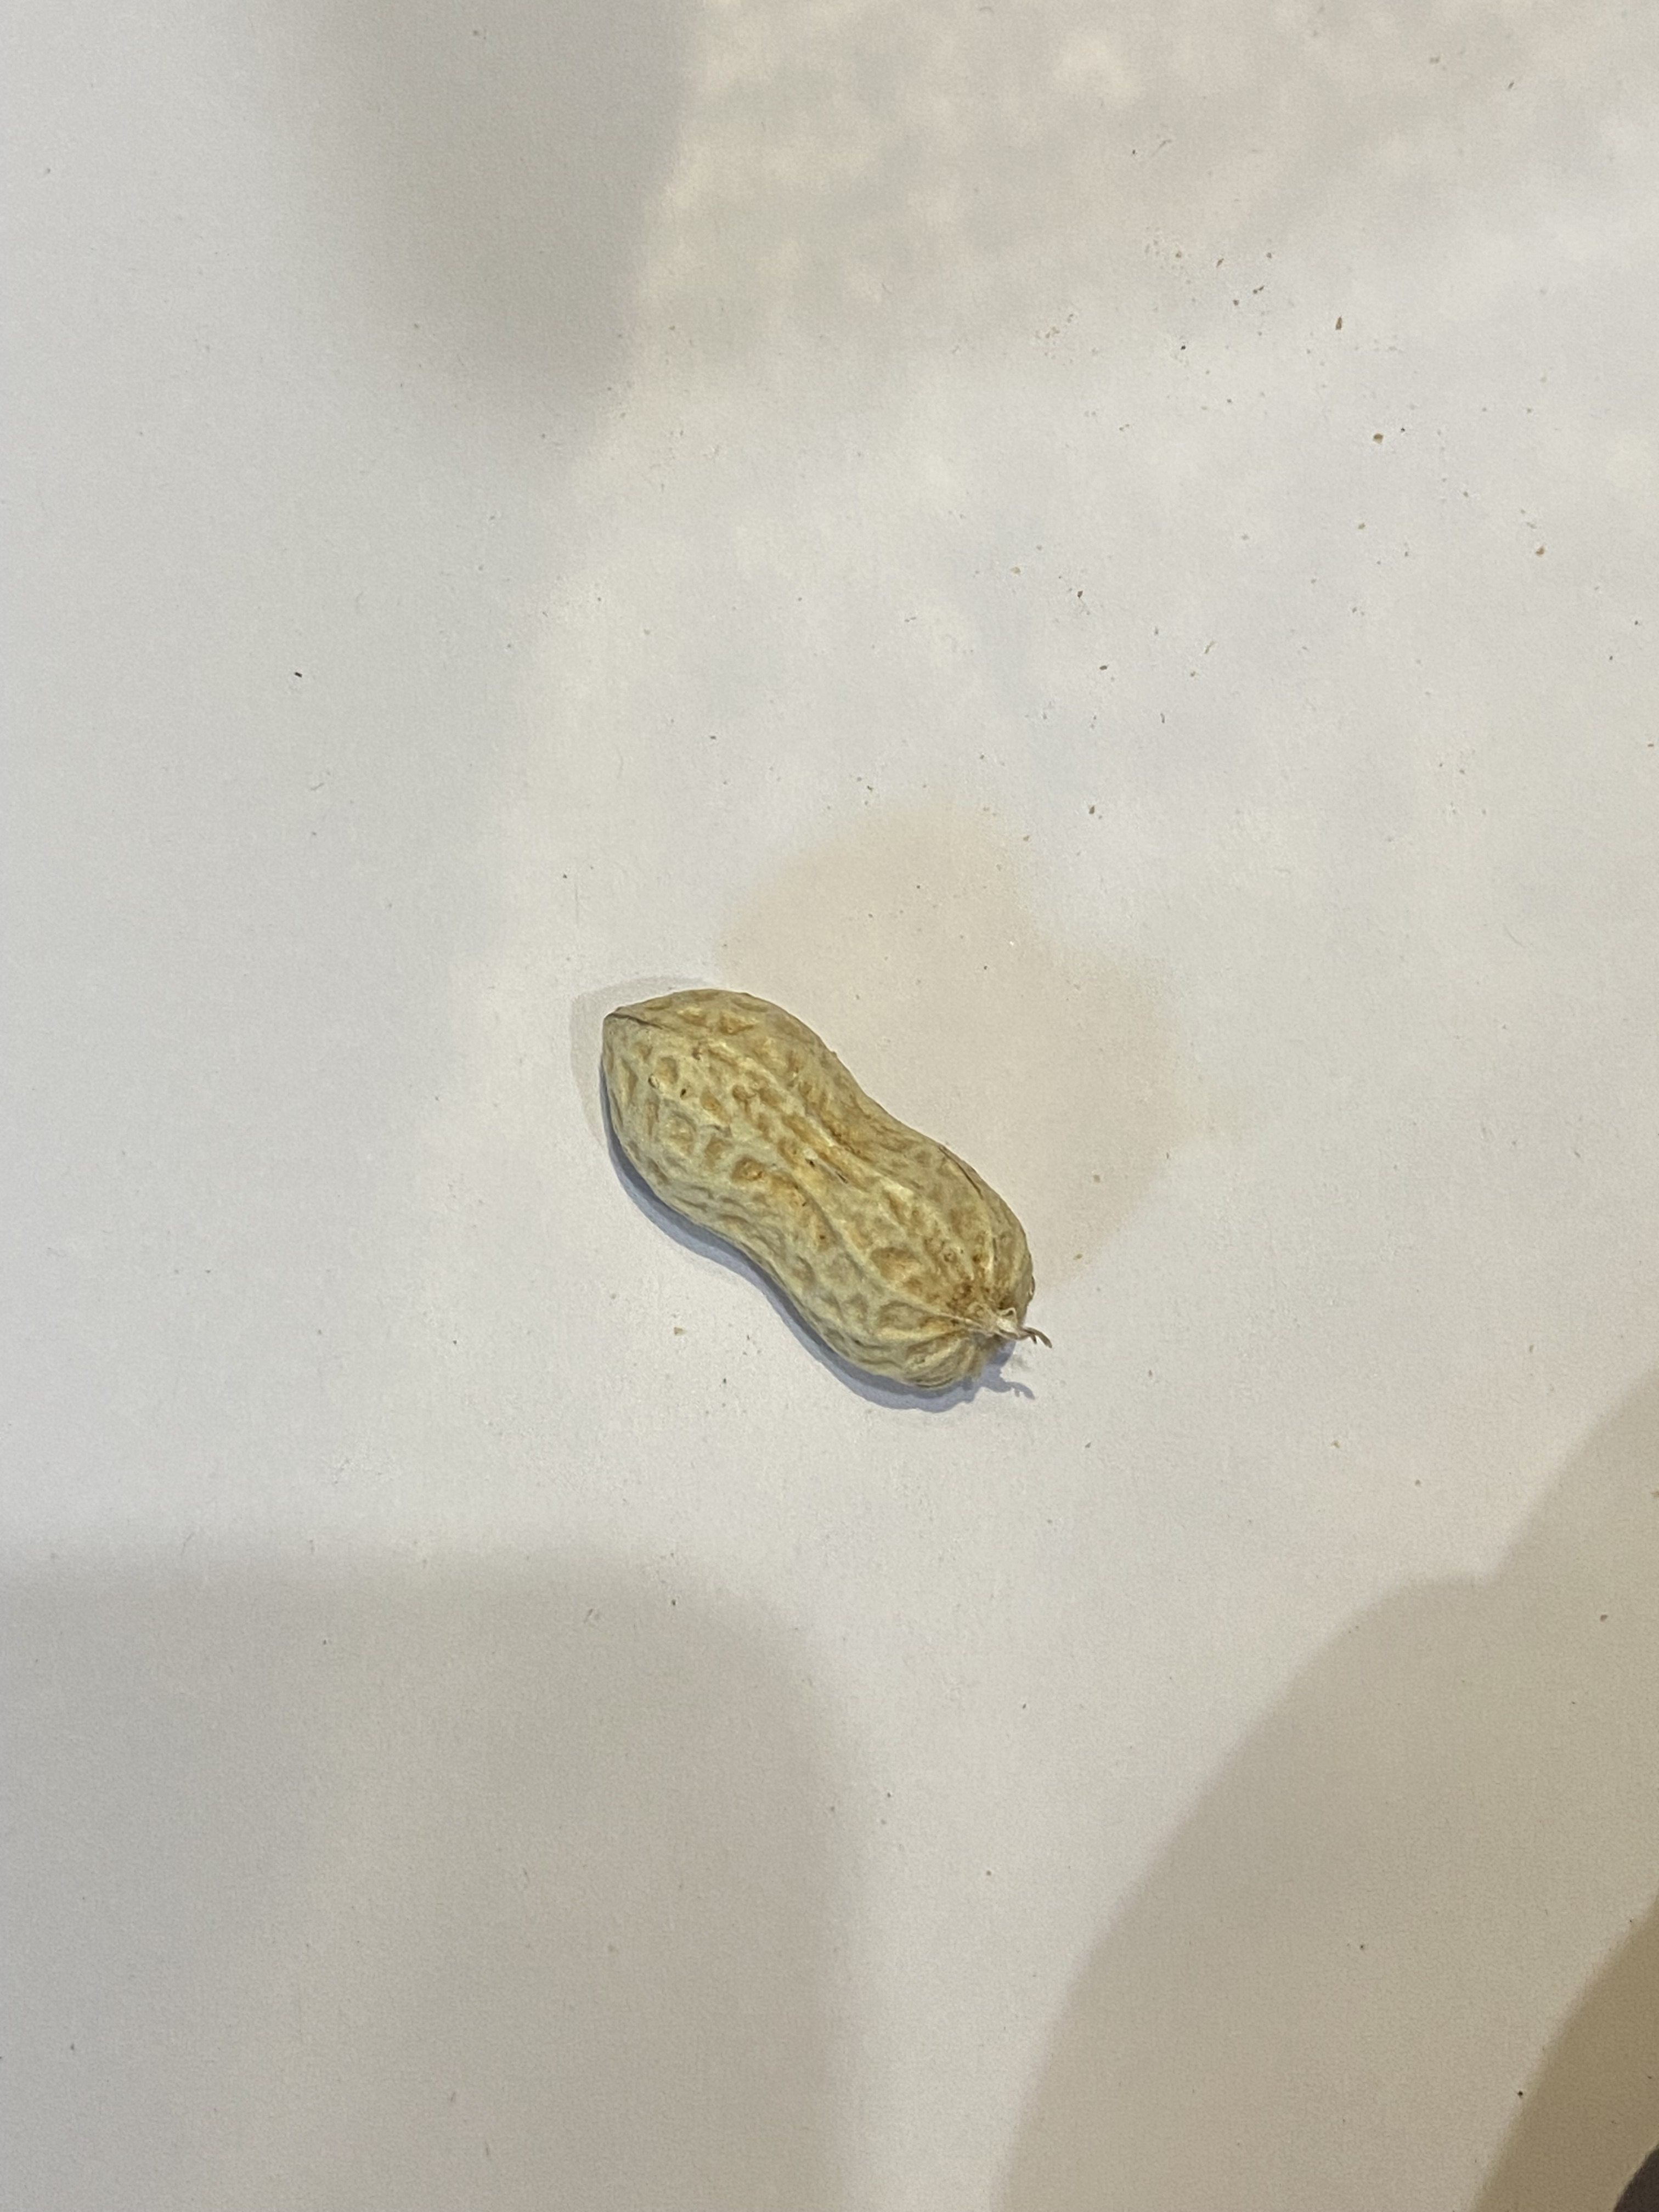kacang2: (596, 982, 1044, 1395)
